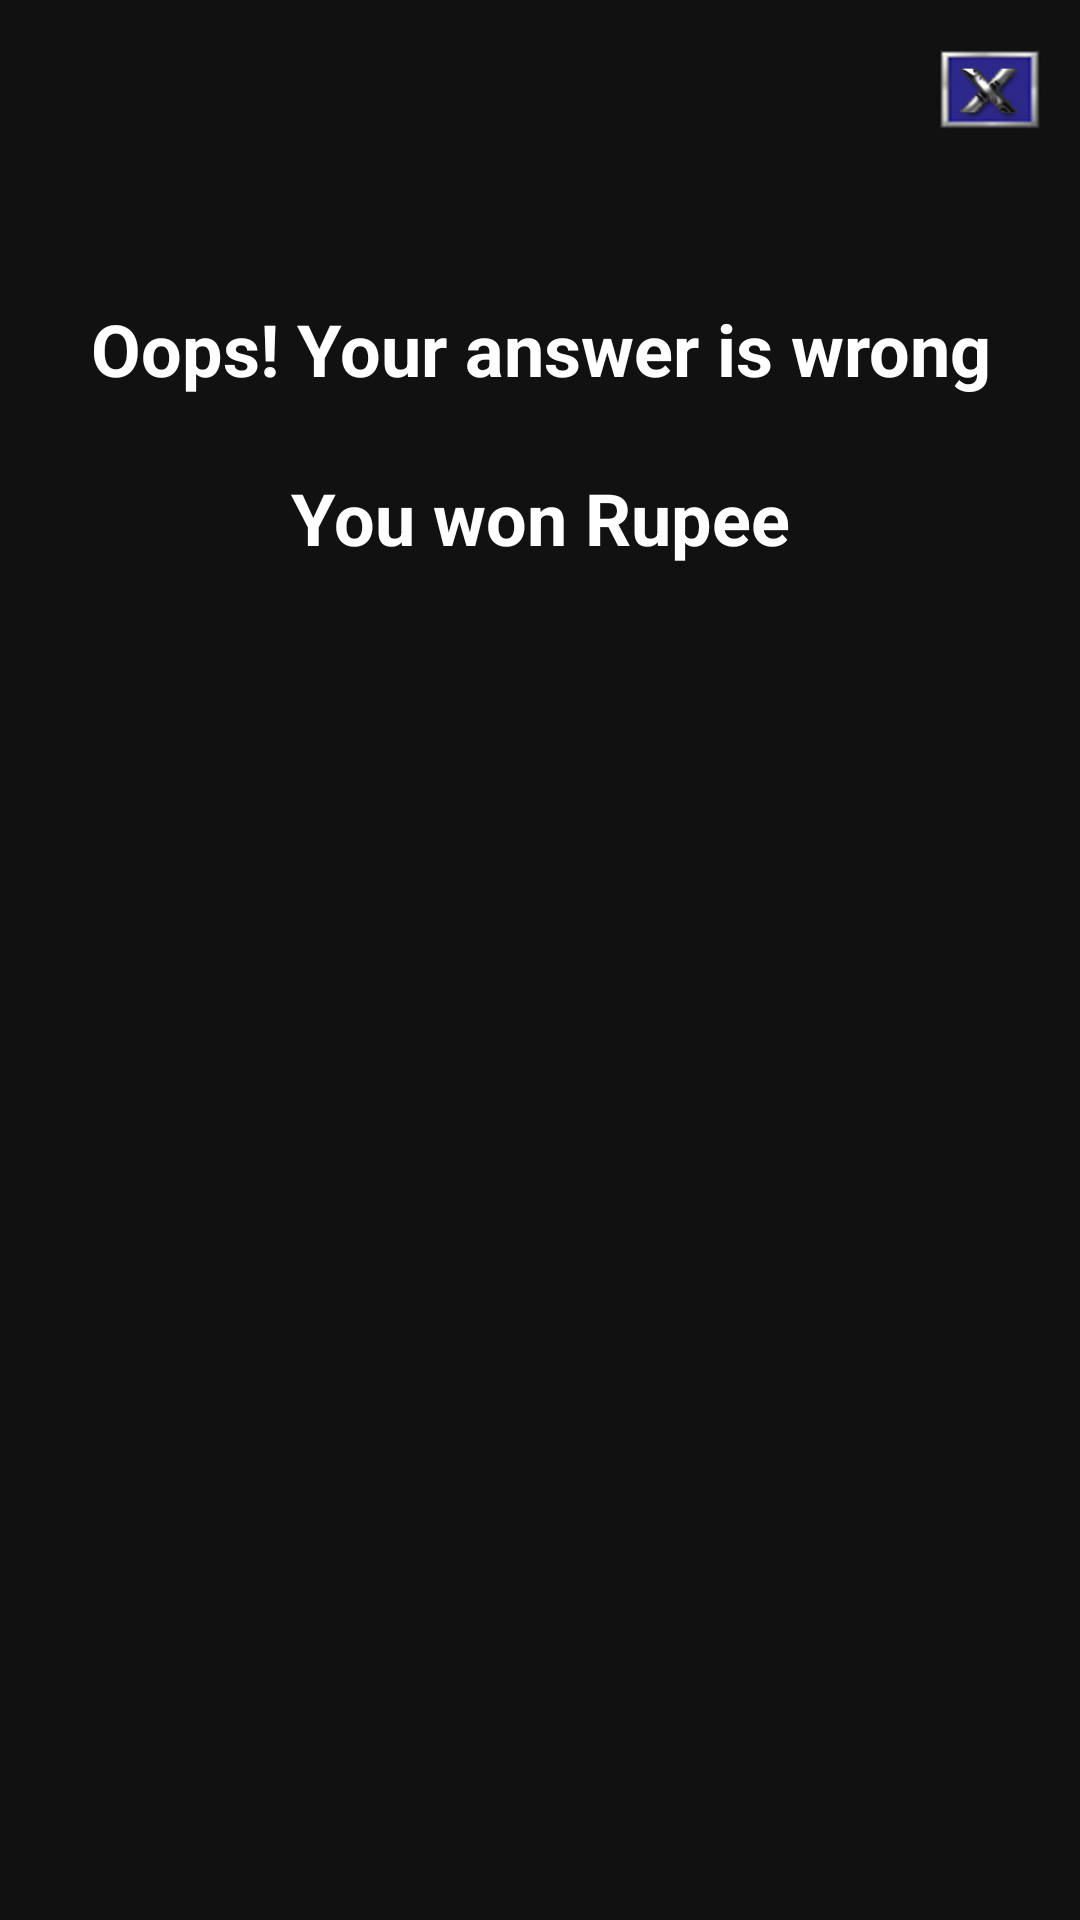

Point at icon controls on the screen. Image size 1080w x 1920h, points as (x=x, y=y).
close: (x=989, y=89)
